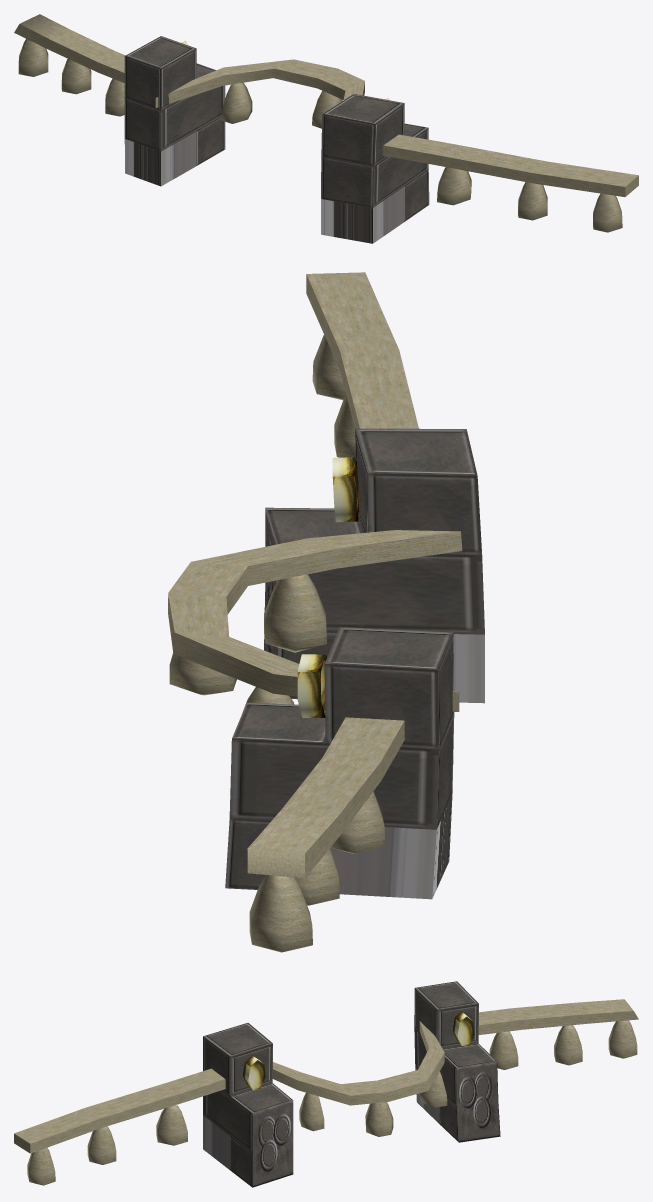
Rendered from CH09_SMAUG_PLAYSURFACE_LAIR15.fbx.
3 views of the same model, one above another, from view 1: azimuth 30°, elevation 25°; view 2: azimuth 150°, elevation 25°; view 3: azimuth 270°, elevation 25° (orthographic). The views are drawn at different scales.
Visible parts, largest first — view 1: CH09_SMAUG_PLAYSURFACE_LAIR15; view 2: CH09_SMAUG_PLAYSURFACE_LAIR15; view 3: CH09_SMAUG_PLAYSURFACE_LAIR15.
Boxes of the visible parts, <box> form: CH09_SMAUG_PLAYSURFACE_LAIR15: <box>14,14,638,243</box>; CH09_SMAUG_PLAYSURFACE_LAIR15: <box>168,272,484,952</box>; CH09_SMAUG_PLAYSURFACE_LAIR15: <box>14,981,638,1187</box>.
Bounding box in the file's own units: 63794 × 23218 × 115428.
3 materials, 3 textured.
